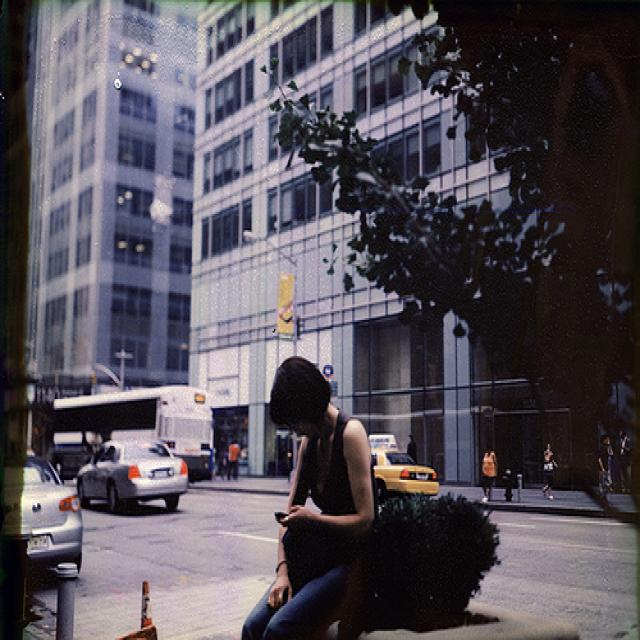fire_hydrant: (502, 466, 512, 500)
